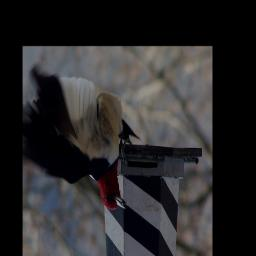Woodpecker: (23, 70, 137, 218)
